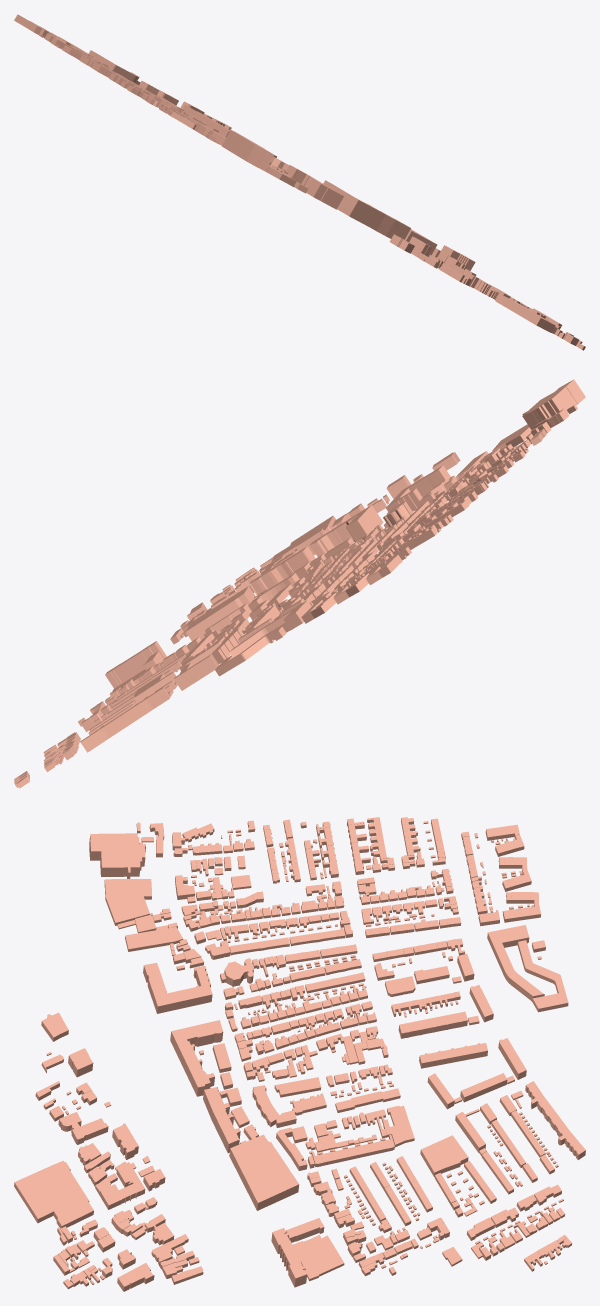
The picture shows the model from 3 angles, top to bottom: view 1: azimuth 30°, elevation 25°; view 2: azimuth 150°, elevation 25°; view 3: azimuth 270°, elevation 25°; orthographic projection. The views are drawn at different scales.
Size of the model in its own units: 524 by 384 by 674.
